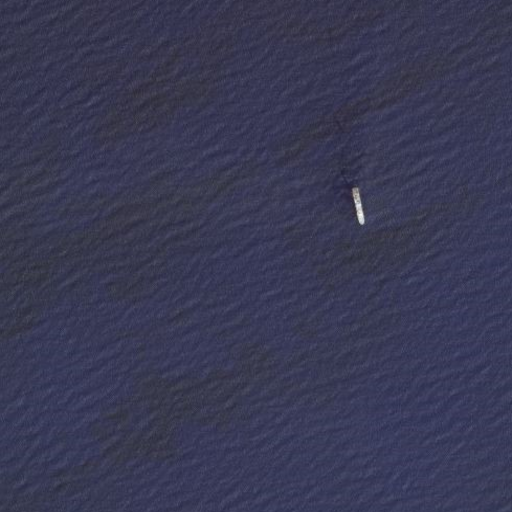ship: (349, 183, 367, 227)
